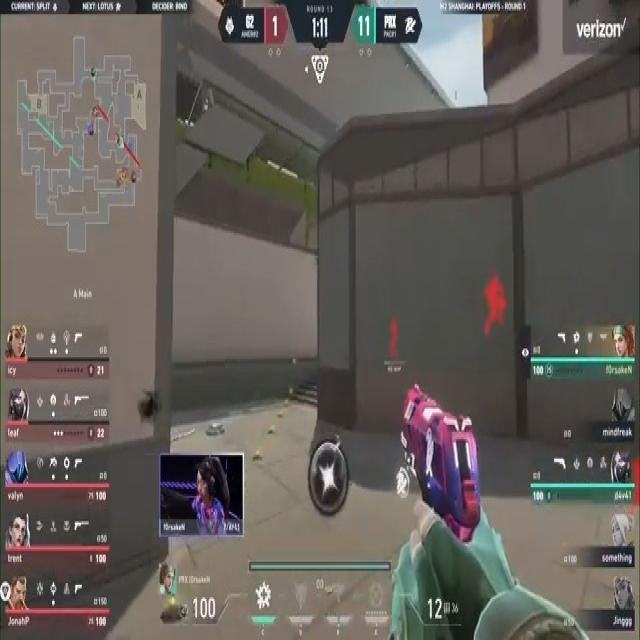orb: (309, 437, 351, 515)
